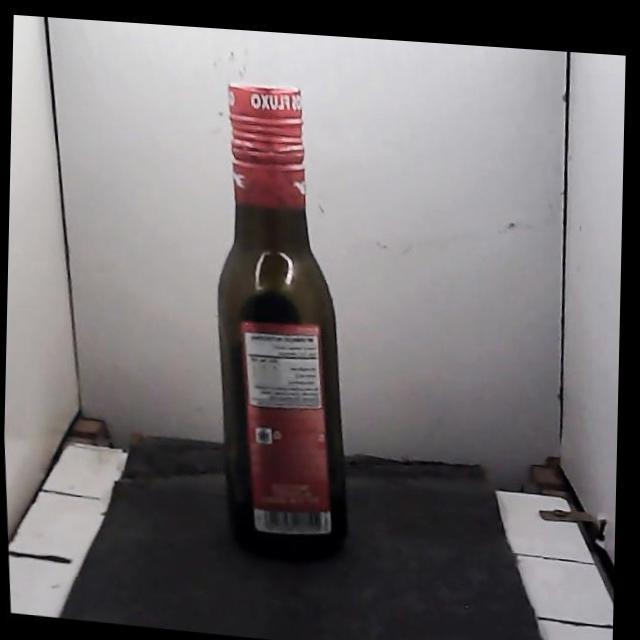vidro: (218, 84, 346, 554)
